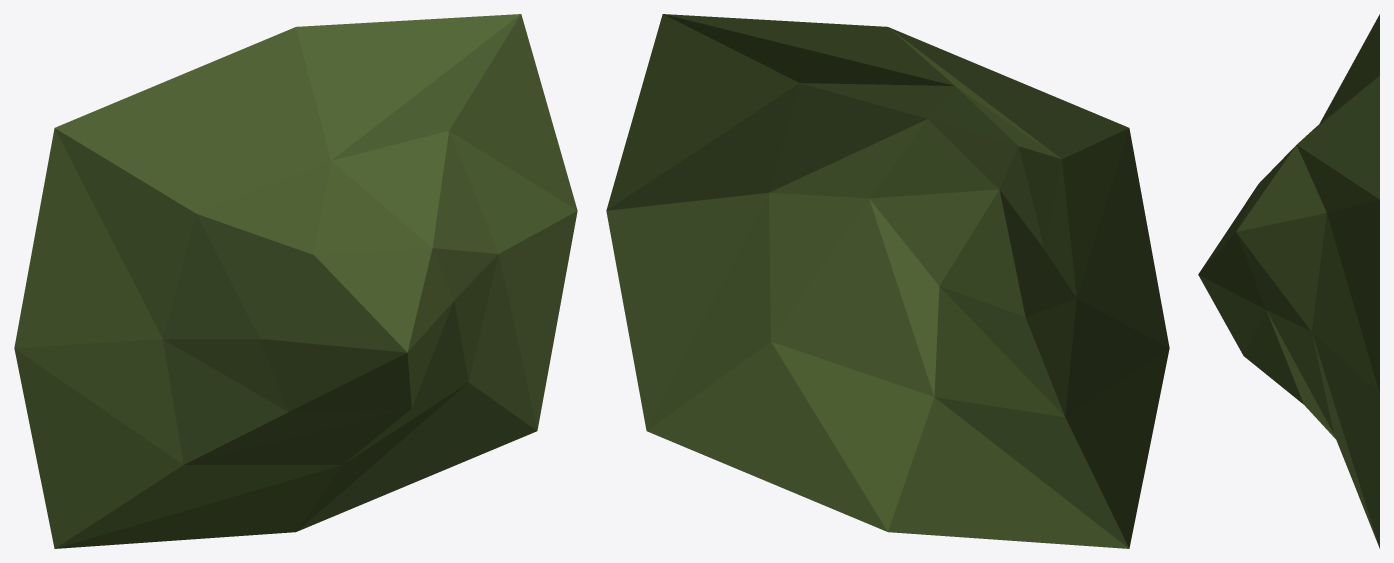
File: mountain.obj
3 renders of one model, left to right at view 1: azimuth 30°, elevation 25°; view 2: azimuth 150°, elevation 25°; view 3: azimuth 270°, elevation 25°, orthographic. The views are drawn at different scales.
Visible parts, largest first — view 1: mountain; view 2: mountain; view 3: mountain.
Boxes of the visible parts, x1,y1,x2,y2 form: mountain: (14,14,577,548); mountain: (606,14,1169,548); mountain: (1198,14,1379,548).
Bounding box in the file's own units: 70 × 60 × 24.
